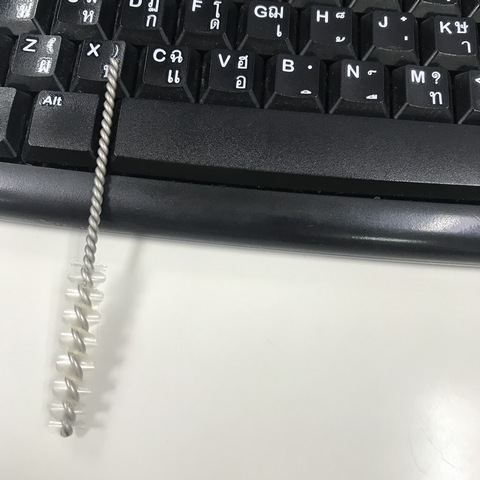Twist Brush-B: (46, 60, 121, 442)
